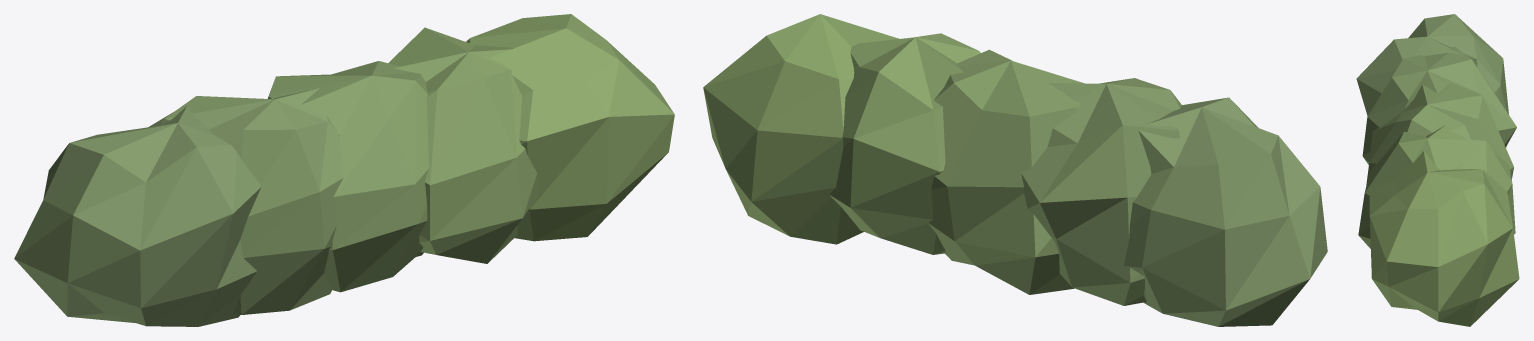
The picture shows the model from 3 angles, left to right: view 1: azimuth 30°, elevation 25°; view 2: azimuth 150°, elevation 25°; view 3: azimuth 270°, elevation 25°; orthographic projection. The views are drawn at different scales.
Size of the model in its own units: 4.85 by 1.5 by 1.52.
